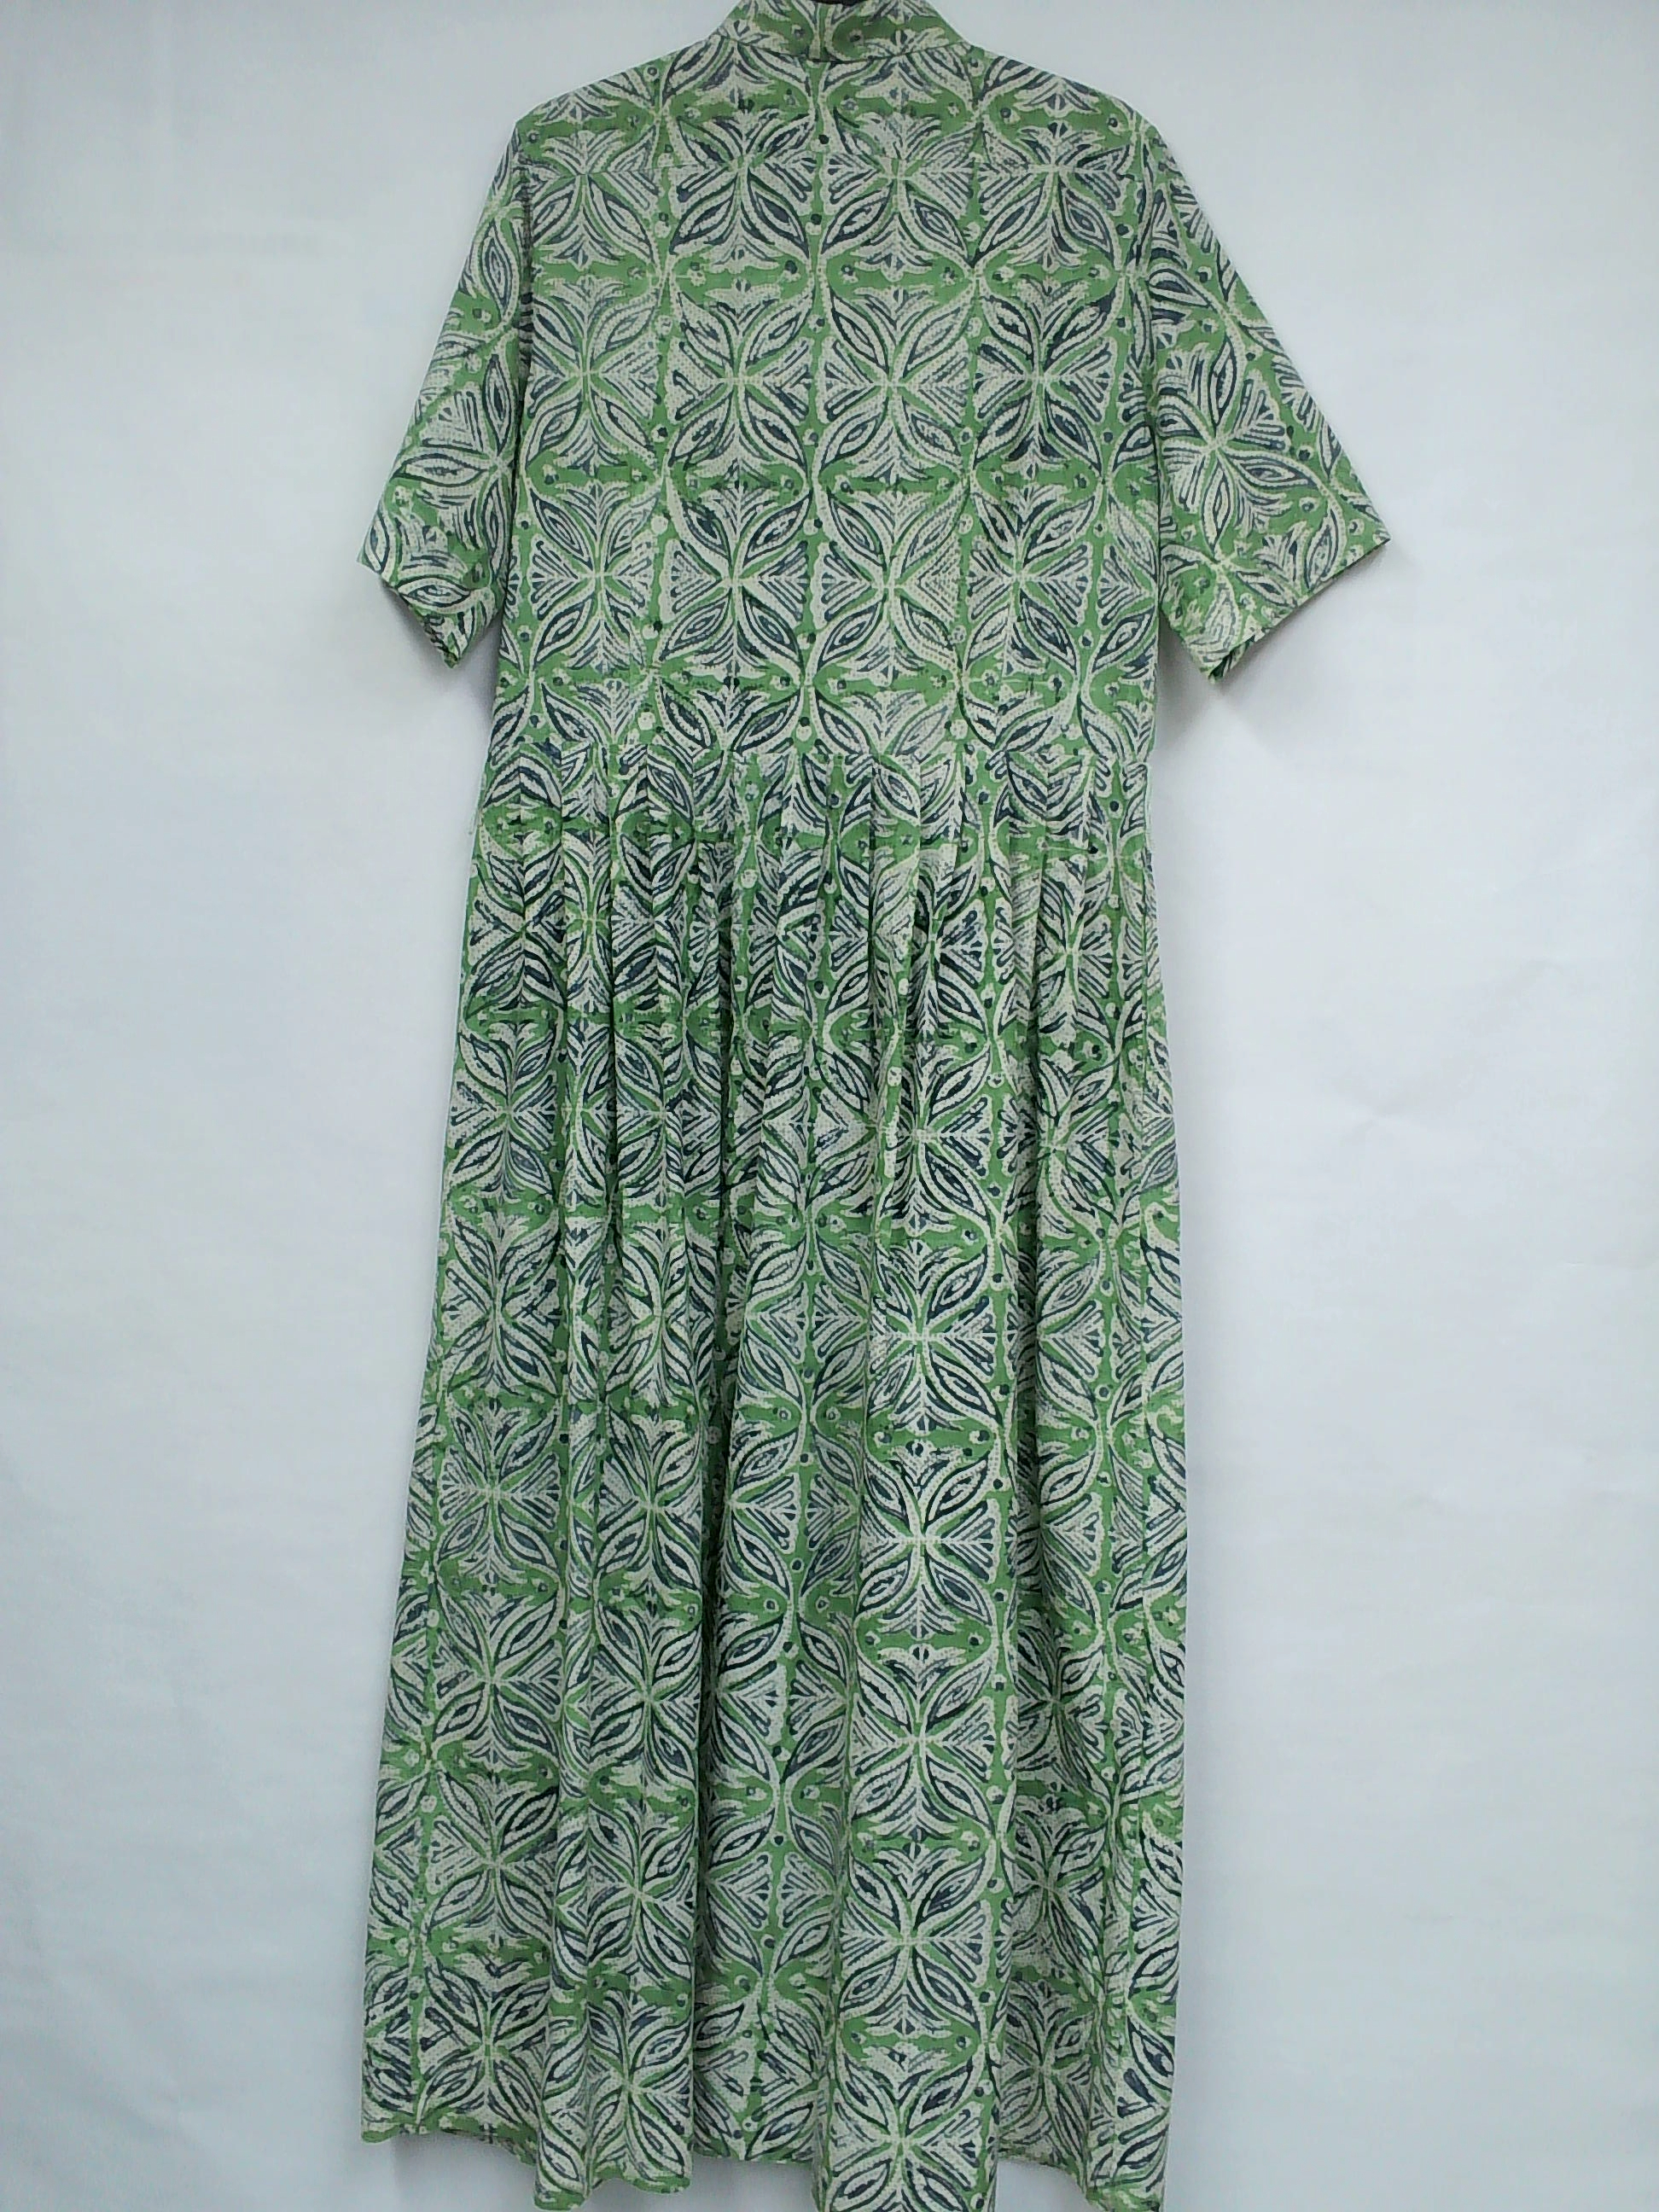bad_fabric: (352, 1712, 486, 2148)
